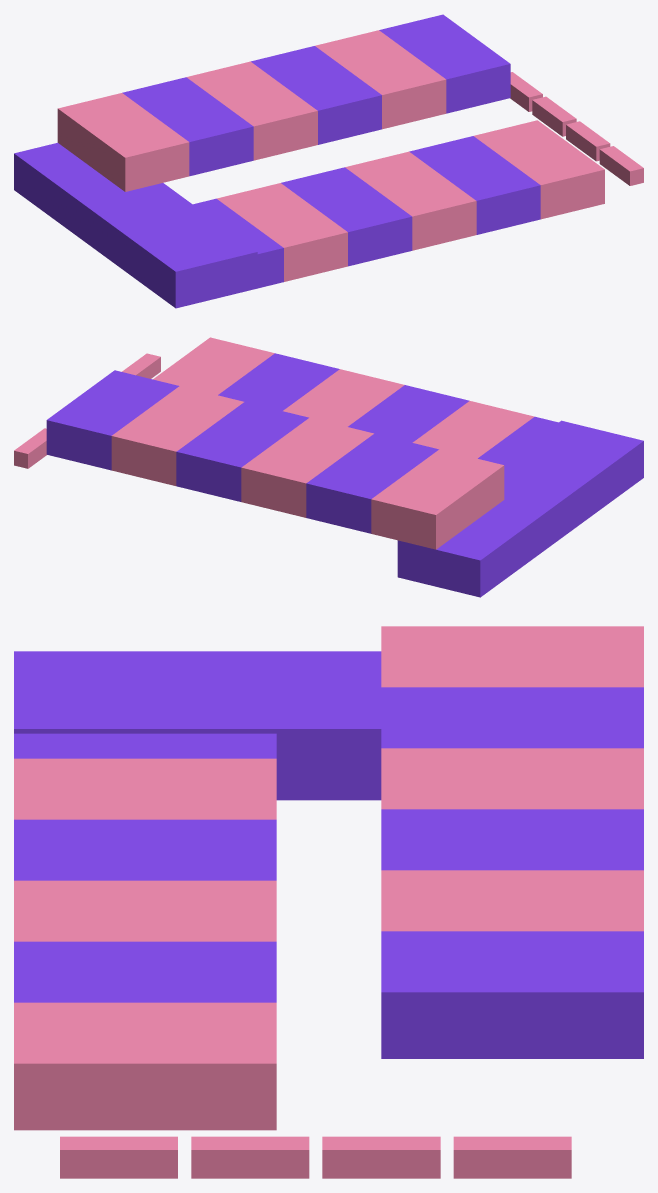
File: scarf.glb
The picture shows the model from 3 angles, top to bottom: view 1: azimuth 30°, elevation 25°; view 2: azimuth 150°, elevation 25°; view 3: azimuth 270°, elevation 25°; orthographic projection. The views are drawn at different scales.
Visible parts, largest first — view 1: scarf; view 2: scarf; view 3: scarf.
Boxes of the visible parts, bbox=[...] form: scarf: bbox=[14, 14, 643, 308]; scarf: bbox=[14, 337, 643, 597]; scarf: bbox=[14, 626, 643, 1178].
Bounding box in the file's own units: 0.411 × 0.058 × 0.24.
Materials: 1 (1 with a texture image).
